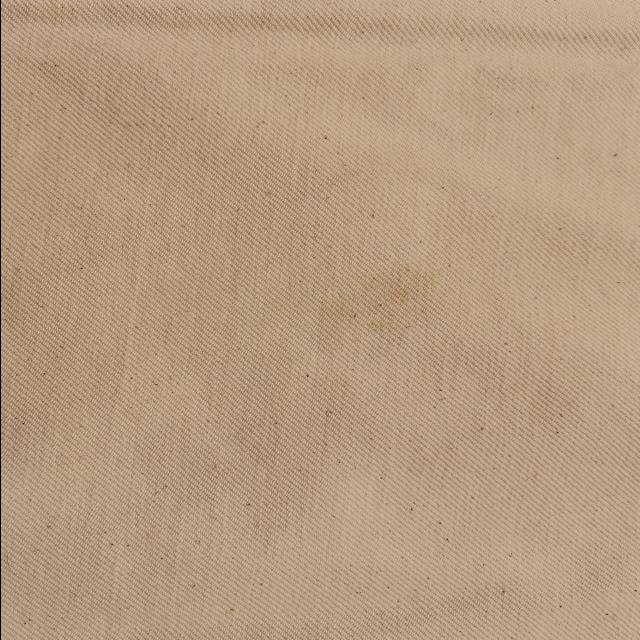taaaches: (328, 269, 434, 339)
